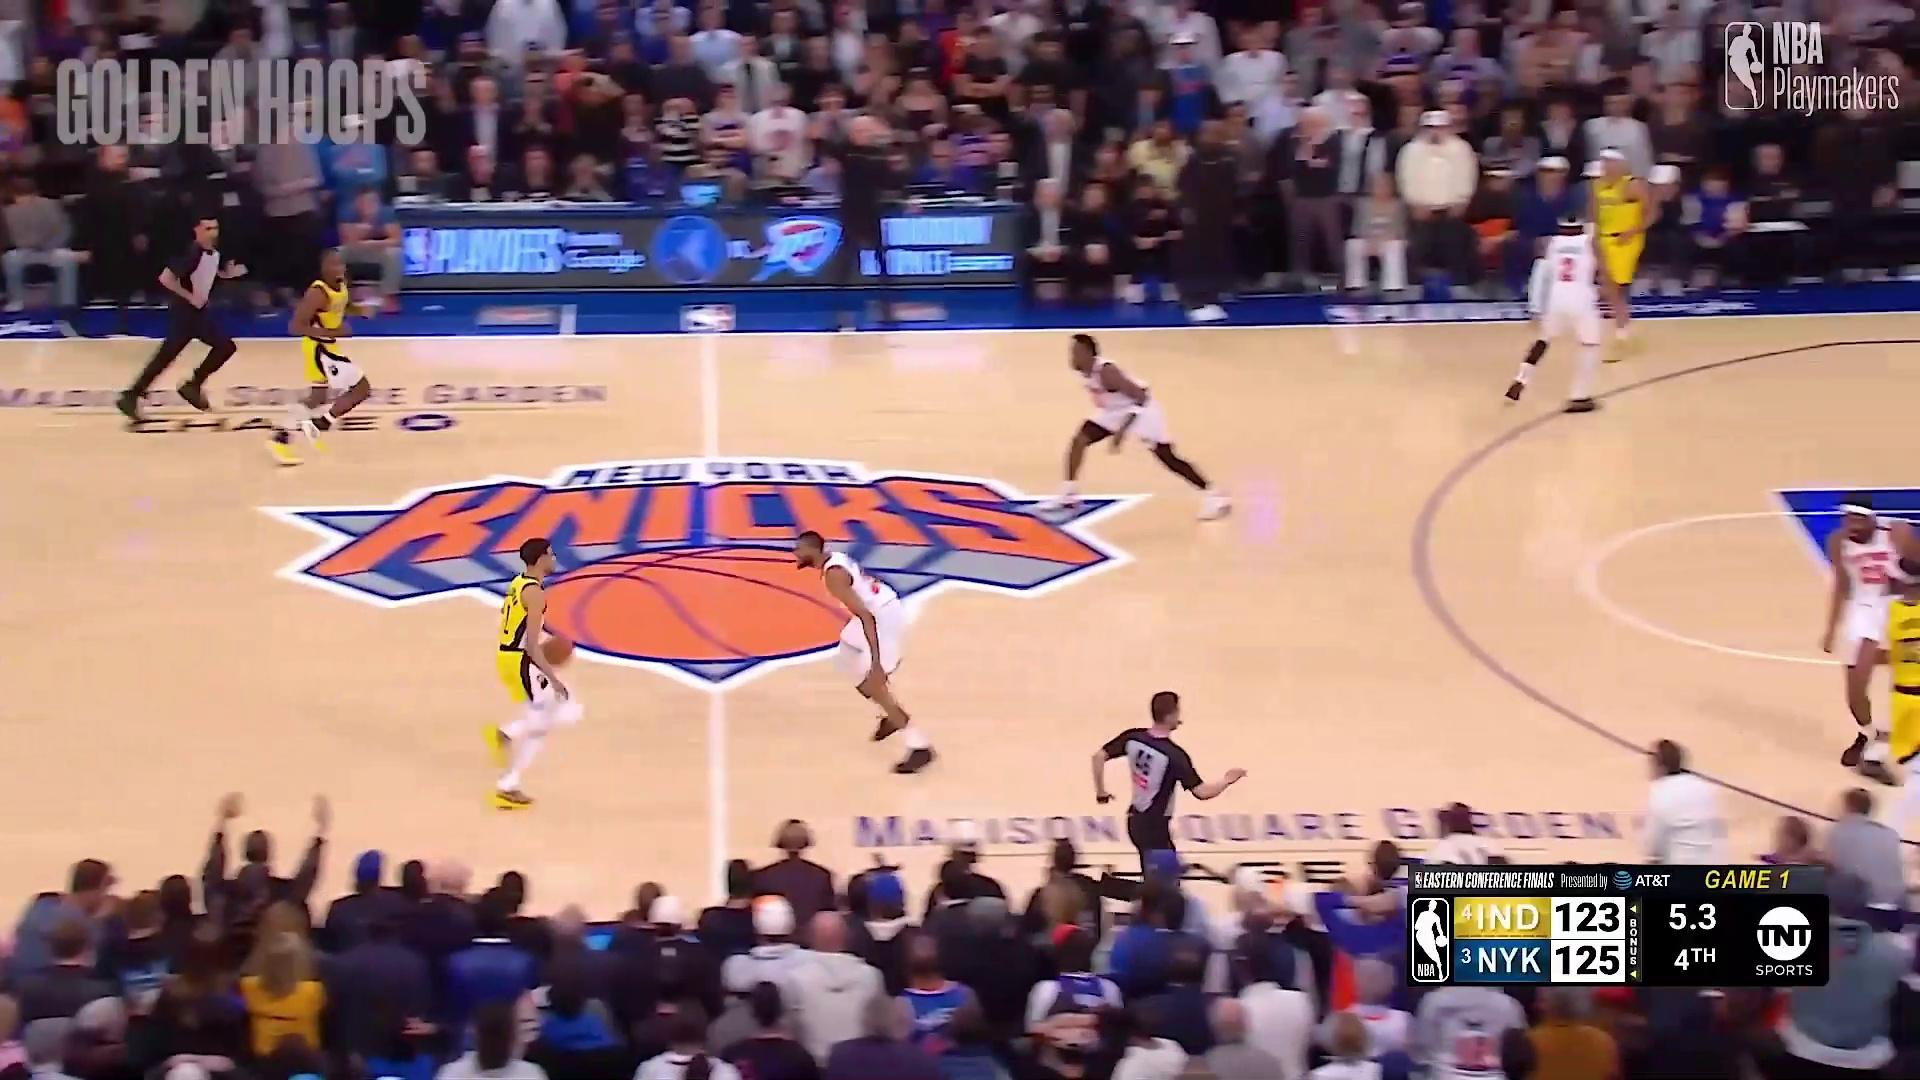ball: (553, 630, 576, 666)
